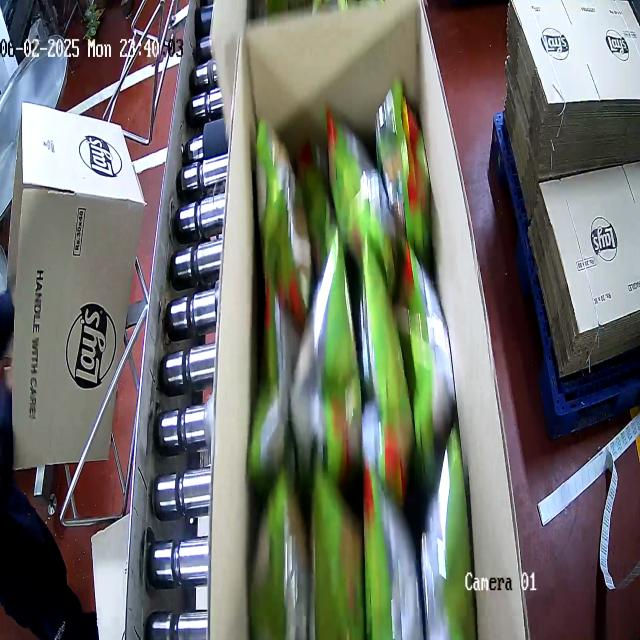YOGURT_HERB: (248, 100, 480, 640)
